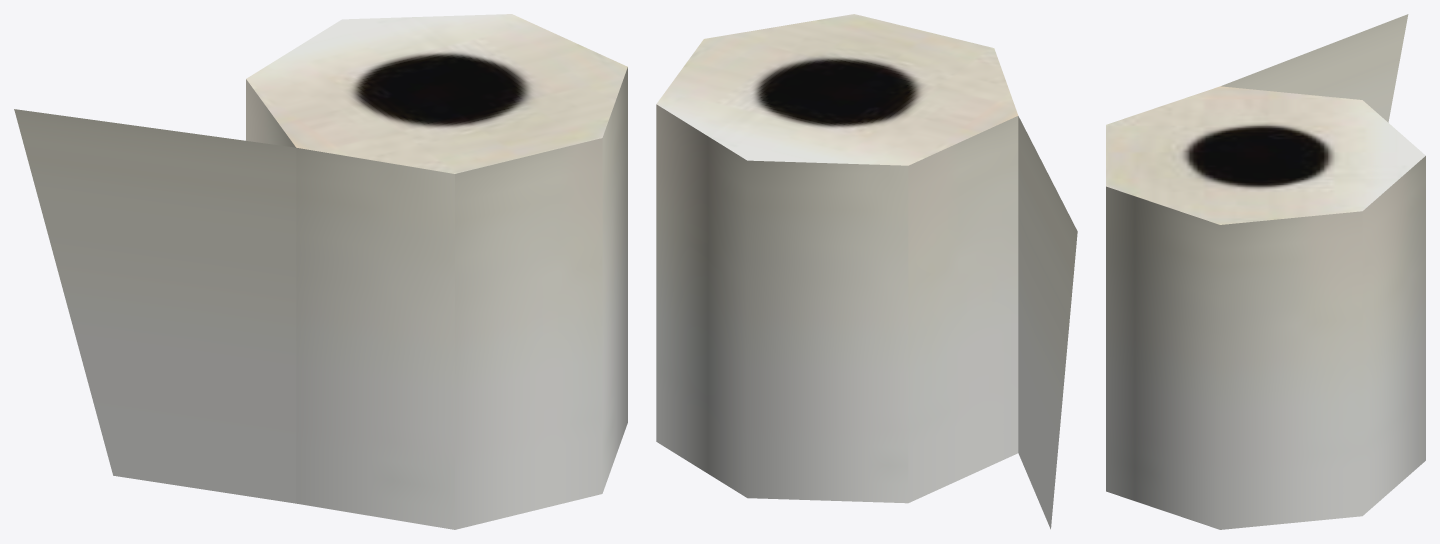
3 views of the same model, side by side, from view 1: azimuth 30°, elevation 25°; view 2: azimuth 150°, elevation 25°; view 3: azimuth 270°, elevation 25° (orthographic). The views are drawn at different scales.
Parts seen in each view (by area): view 1: Toilet_paper_01002_Hygiene001_0; view 2: Toilet_paper_01002_Hygiene001_0; view 3: Toilet_paper_01002_Hygiene001_0.
Boxes of the visible parts, left/top/right/bottom form: Toilet_paper_01002_Hygiene001_0: left=14, top=14, right=627, bottom=529; Toilet_paper_01002_Hygiene001_0: left=656, top=14, right=1077, bottom=529; Toilet_paper_01002_Hygiene001_0: left=1106, top=14, right=1425, bottom=529.
Size of the model in its own units: 0.2174 by 0.1469 by 0.1395.
1 material, 1 textured.
